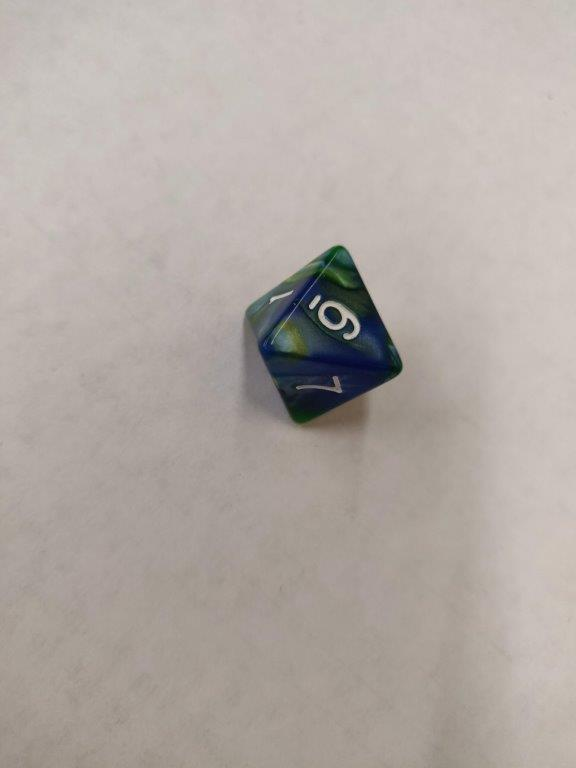d8-6: (240, 244, 405, 425)
